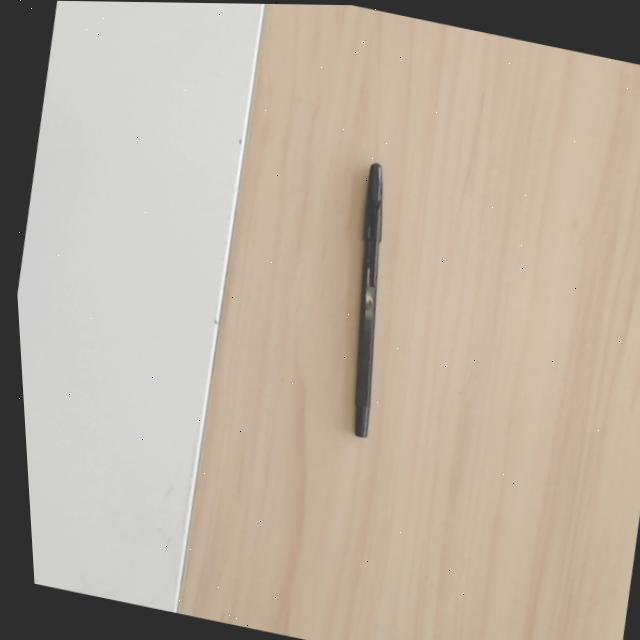Pulpen-Hitam: (348, 163, 386, 439)
